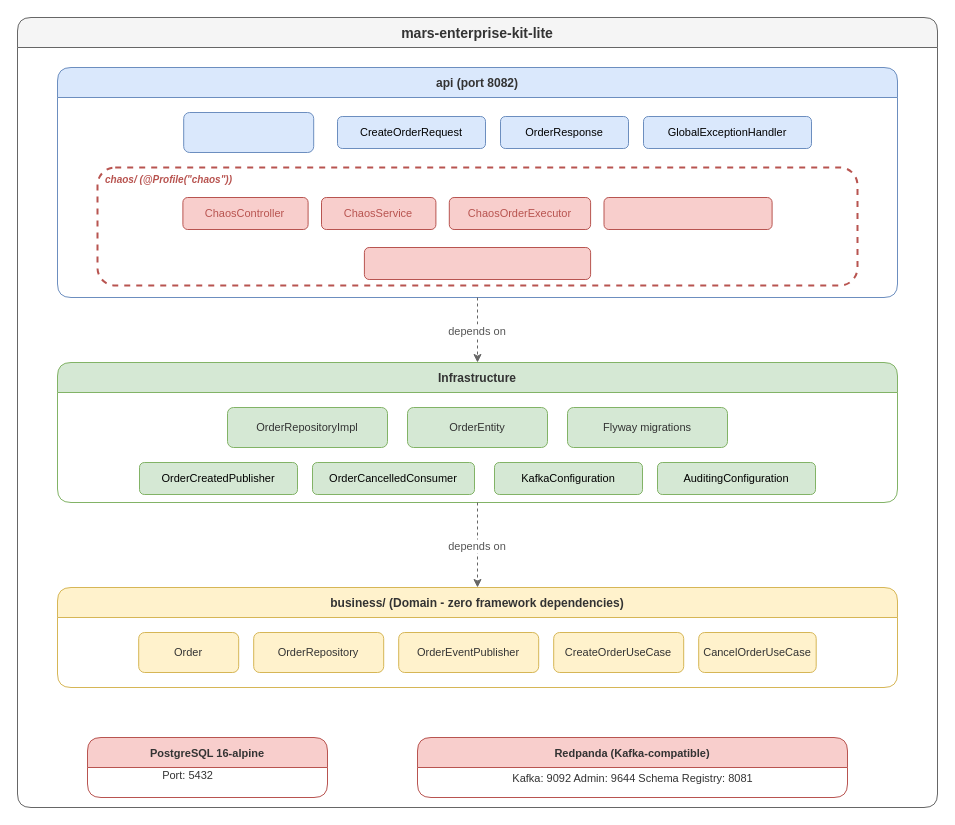
The diagram is 955 pixels wide and 825 high, and some of its shapes have lost their labels. Here are the shapes that lost their labels. From the top down, the centre of each, then its label:
point (248, 132): OrderController
point (687, 213): PhantomEventChaosAspect
point (477, 263): PhantomEventSimulationException
